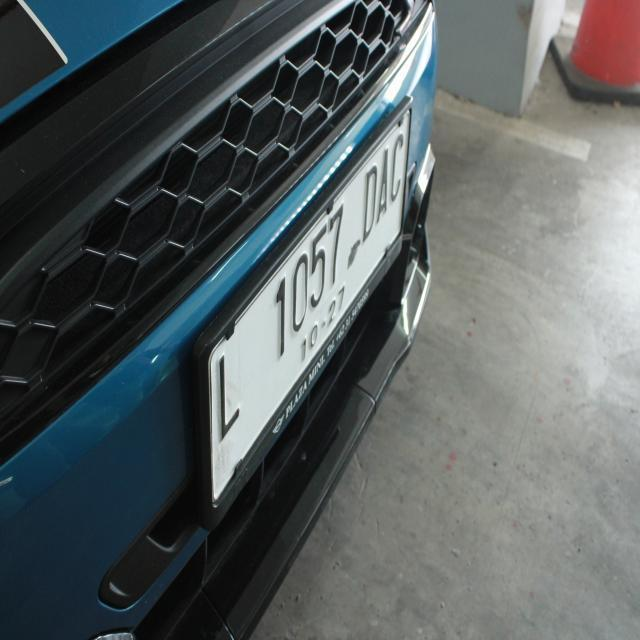0: (288, 256, 316, 332)
1: (262, 266, 296, 368)
5: (302, 226, 336, 314)
7: (313, 197, 353, 296)
A: (372, 140, 396, 220)
C: (388, 124, 410, 214)
D: (356, 157, 380, 252)
L: (204, 351, 246, 447)
